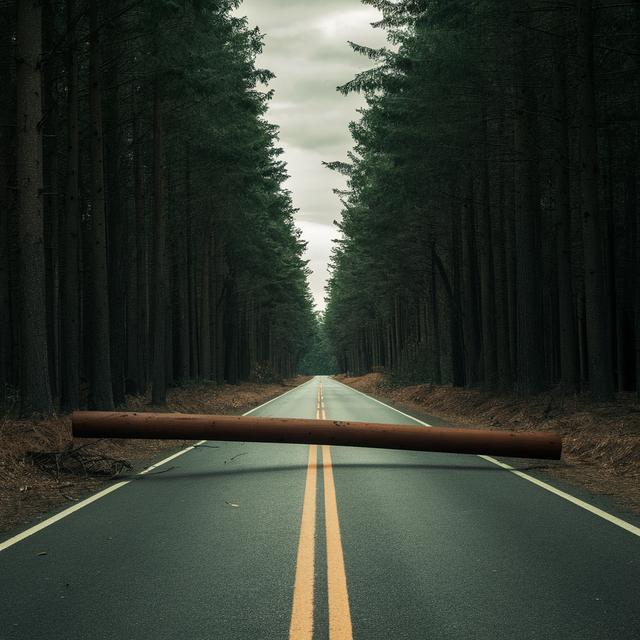Inclined Pole: (68, 406, 566, 464)
